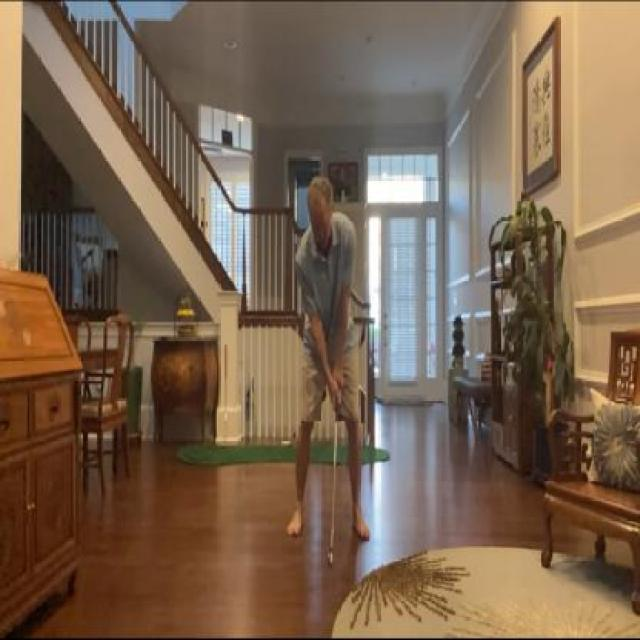club head: (326, 542, 334, 572)
